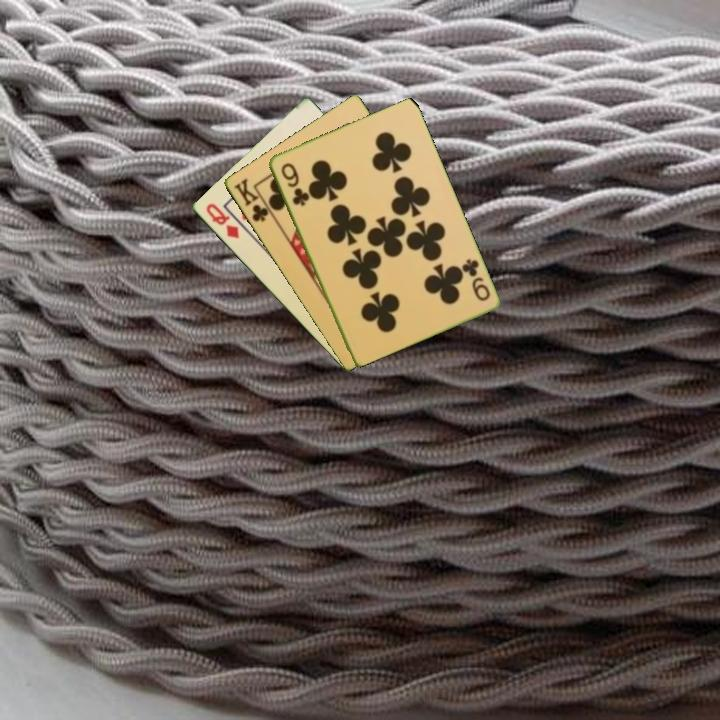9c: (458, 255, 493, 304), (277, 159, 310, 209)
Kc: (230, 175, 276, 225)
Qd: (202, 199, 242, 241)
